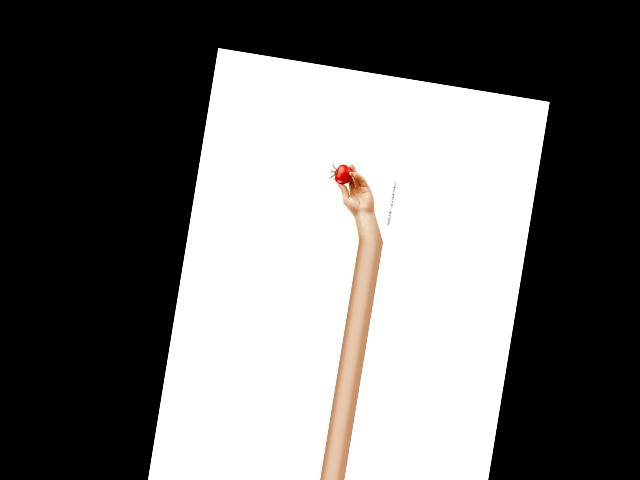tomato: (334, 163, 354, 186)
